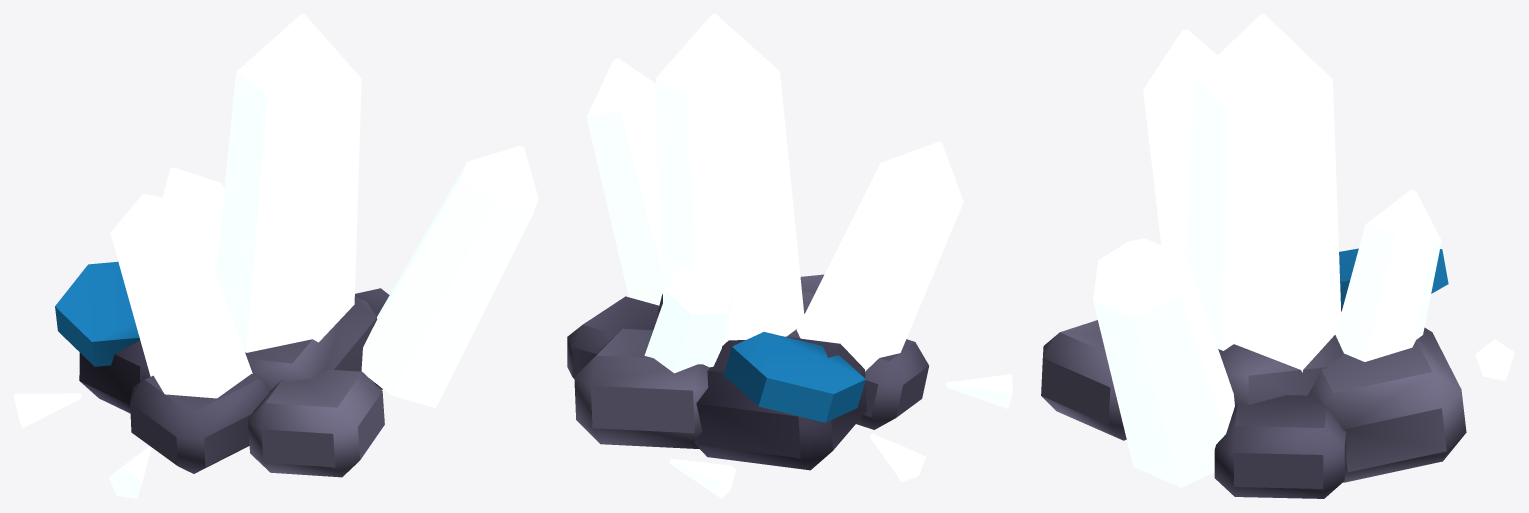
Rendered from n_crystal_2.glb.
The picture shows the model from 3 angles, left to right: view 1: azimuth 30°, elevation 25°; view 2: azimuth 150°, elevation 25°; view 3: azimuth 270°, elevation 25°; orthographic projection. The views are drawn at different scales.
Visible parts, largest first — view 1: crystal_glow, body; view 2: crystal_glow, body; view 3: crystal_glow, body.
Part boxes in pixels (x1=…): crystal_glow: x1=14, y1=14, x2=538, y2=498; body: x1=55, y1=261, x2=389, y2=477; crystal_glow: x1=586, y1=14, x2=1012, y2=498; body: x1=567, y1=274, x2=928, y2=470; crystal_glow: x1=1093, y1=14, x2=1514, y2=487; body: x1=1041, y1=248, x2=1466, y2=498.
Size of the model in its own units: 1.82 by 1.63 by 1.57.
